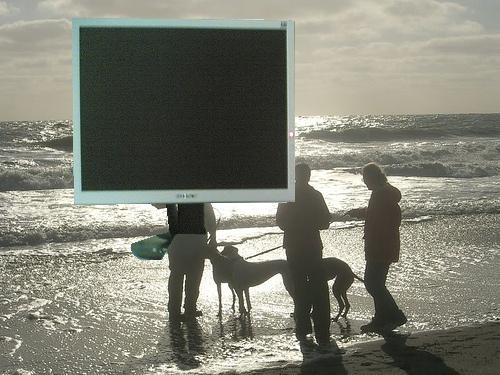tampered: (73, 19, 295, 260)
